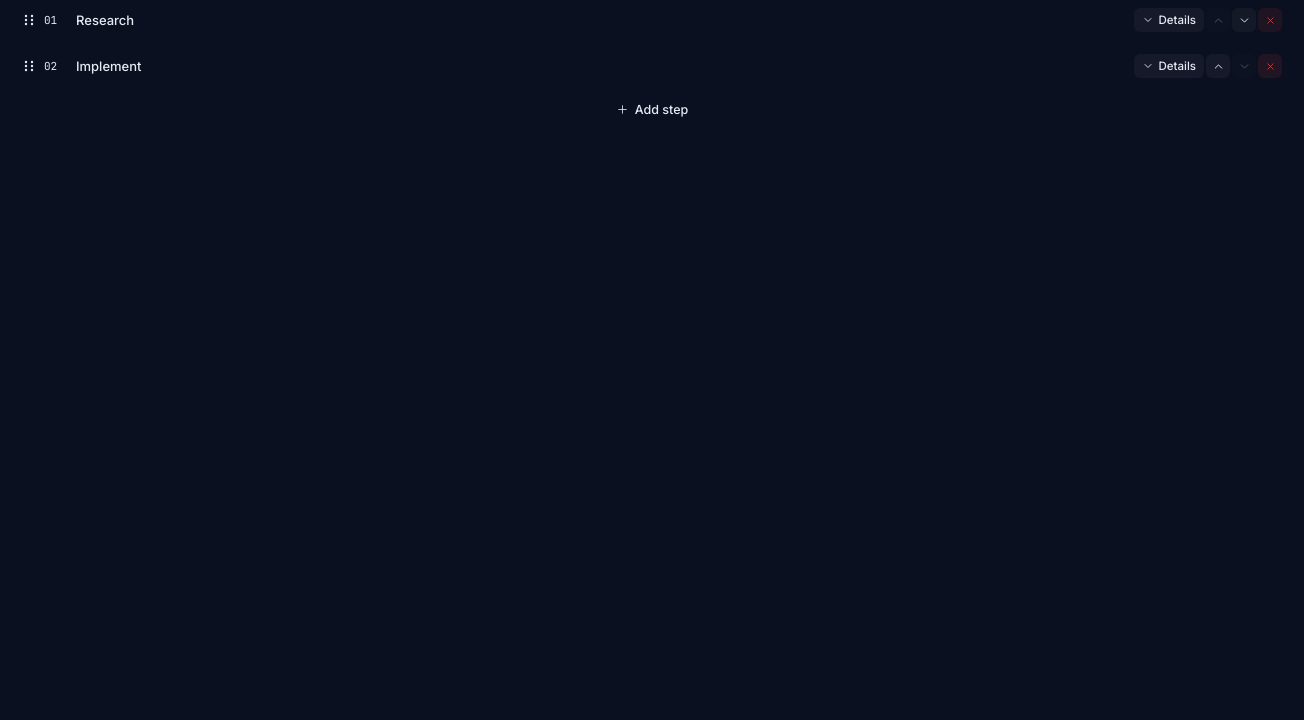
Test: StepEditor › expanding a row reveals instructions textarea and output schema editor
Note: Expand first row
Click the button titled "Edit details" in the row of "01" at x=1169, y=20, box [1134, 8, 1204, 32]
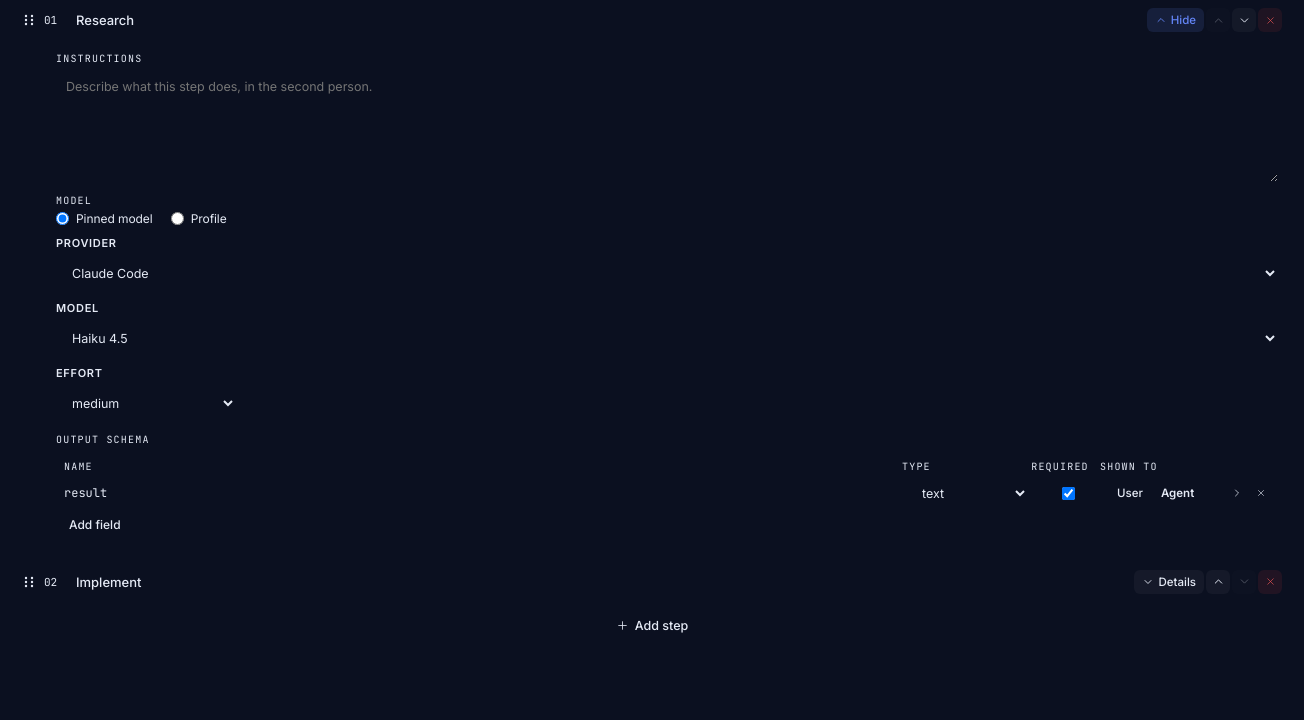
Check: the text box named "Step 1 instructions" is shown, box [56, 69, 1278, 182]
Check: the text "Output Schema" is shown, box [56, 433, 150, 446]
